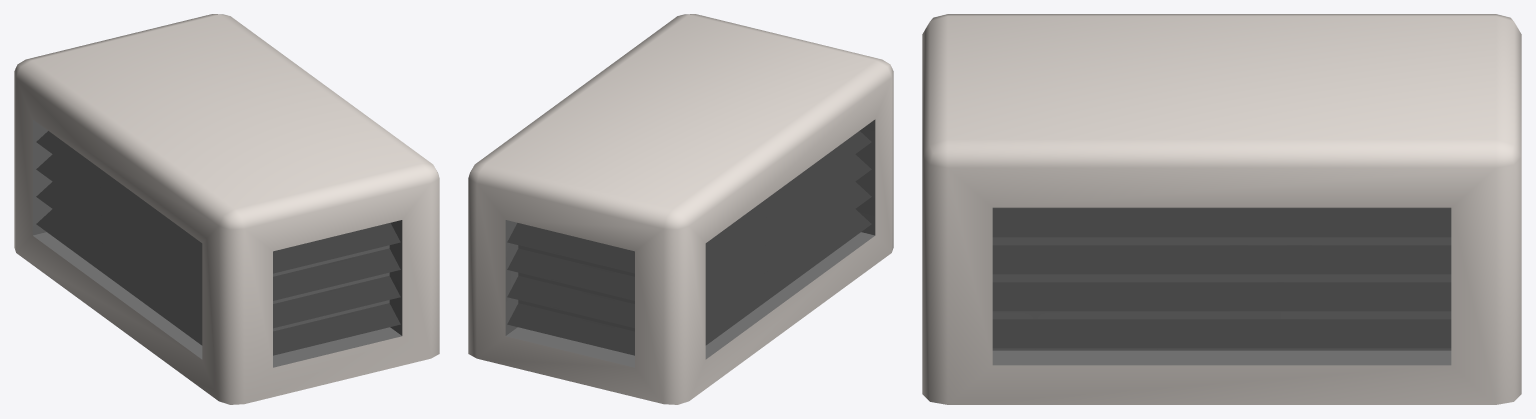
File: AC_Vent_04.fbx
3 renders of one model, left to right at view 1: azimuth 30°, elevation 25°; view 2: azimuth 150°, elevation 25°; view 3: azimuth 270°, elevation 25°, orthographic. The views are drawn at different scales.
Parts seen in each view (by area): view 1: AC_vents_04; view 2: AC_vents_04; view 3: AC_vents_04.
Part boxes in pixels (<box>): AC_vents_04: <box>14,14,439,404</box>; AC_vents_04: <box>468,14,893,404</box>; AC_vents_04: <box>922,14,1521,404</box>.
Bounding box in the file's own units: 99.83 × 82.01 × 175.
